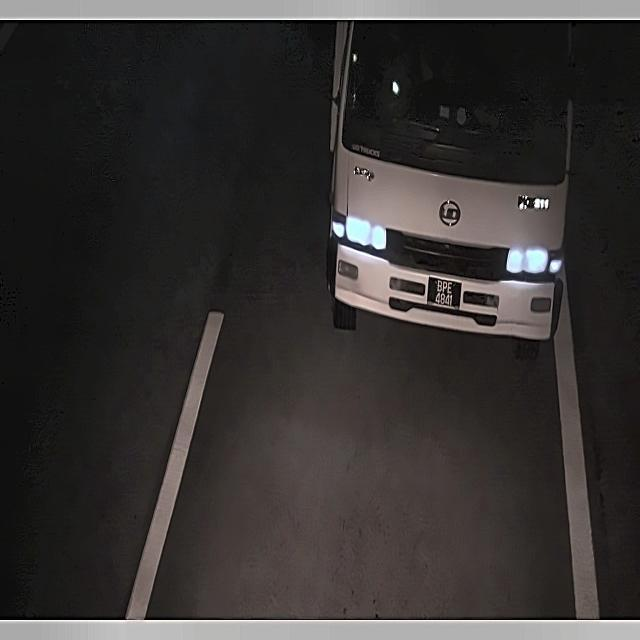car: (423, 273, 463, 320)
